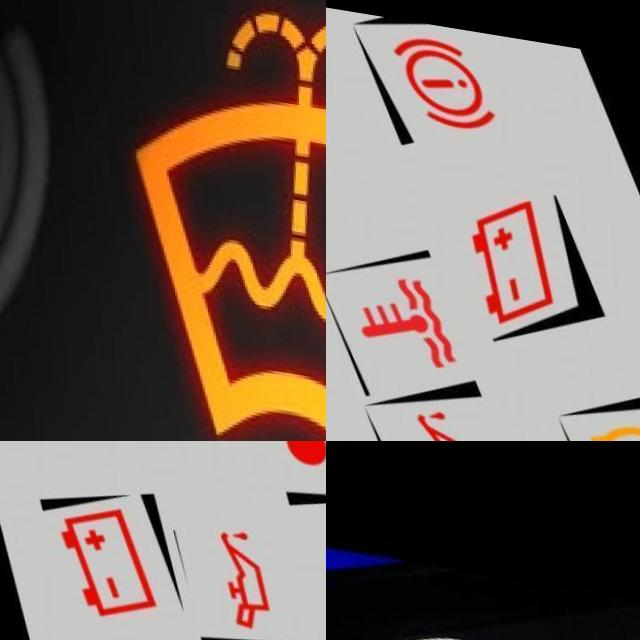Washer Fluid: (123, 0, 326, 441)
